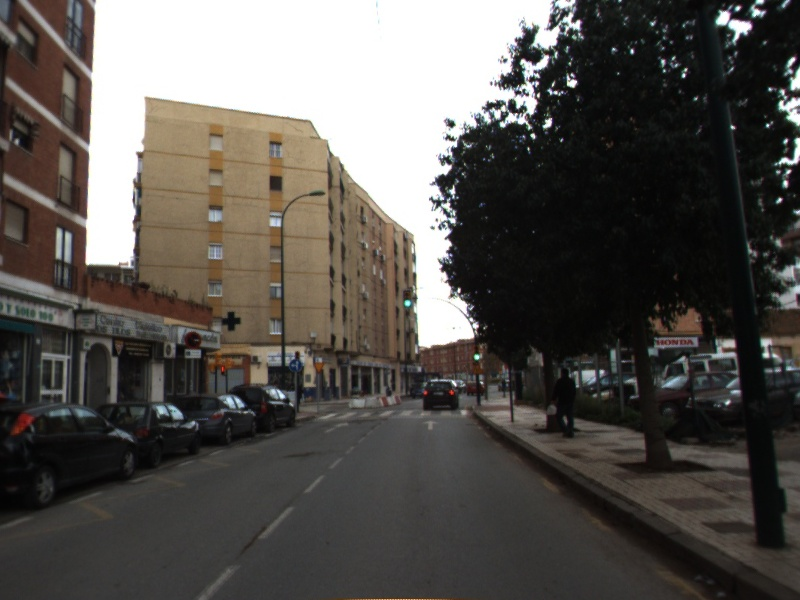STRAIGHT: (322, 420, 351, 435), (420, 418, 442, 432)
